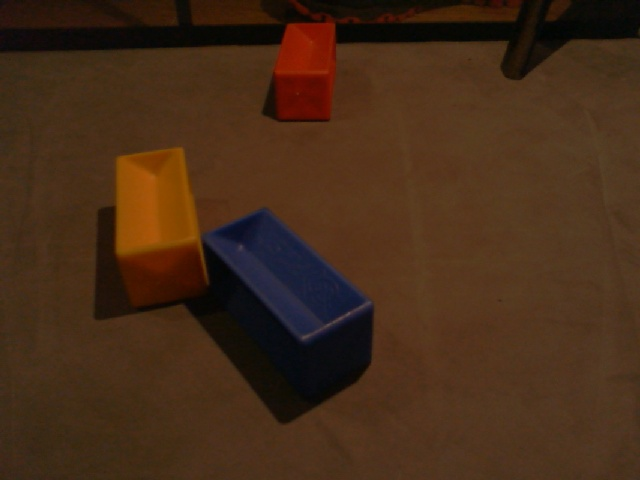BlueSample: (200, 204, 376, 398)
RedSample: (268, 20, 342, 125)
YellowSample: (109, 143, 208, 308)
